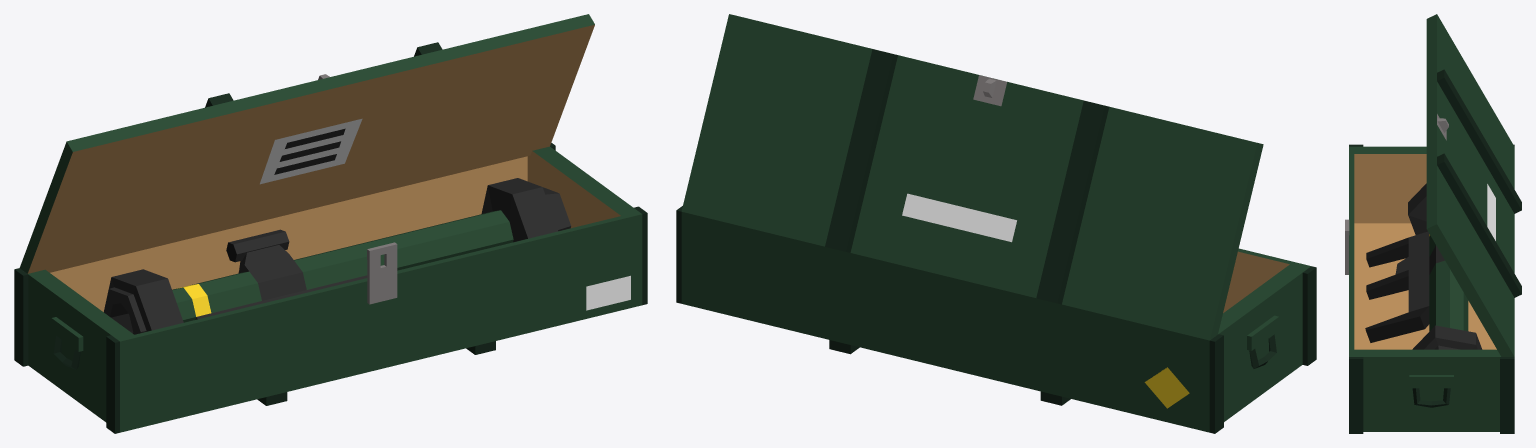
The model's file is weapons_crate-army-rocket-launcher-open.fbx.
3 renders of one model, left to right at view 1: azimuth 30°, elevation 25°; view 2: azimuth 150°, elevation 25°; view 3: azimuth 270°, elevation 25°, orthographic. The views are drawn at different scales.
Visible parts, largest first — view 1: weapons_crate_army_rocket_launcher_open; view 2: weapons_crate_army_rocket_launcher_open; view 3: weapons_crate_army_rocket_launcher_open.
Part boxes in pixels (<box>): weapons_crate_army_rocket_launcher_open: <box>14,14,647,433</box>; weapons_crate_army_rocket_launcher_open: <box>676,14,1316,433</box>; weapons_crate_army_rocket_launcher_open: <box>1345,14,1521,433</box>.
Bounding box in the file's own units: 200 × 94.47 × 69.17.
